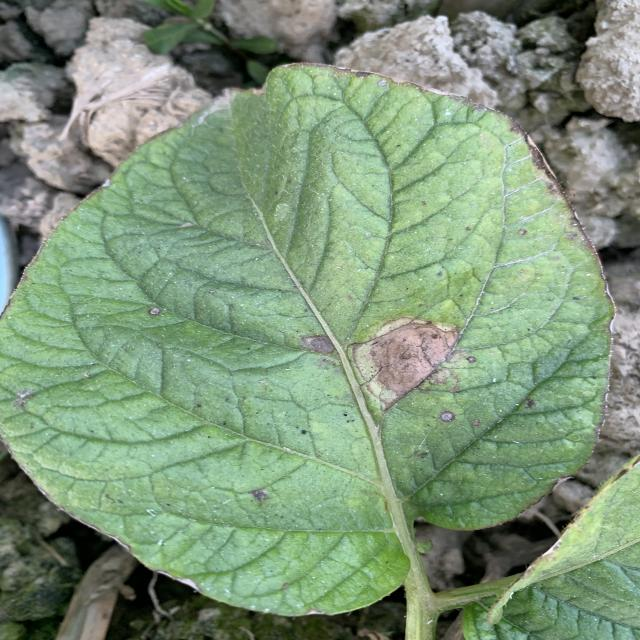lateblight: (350, 318, 458, 411)
